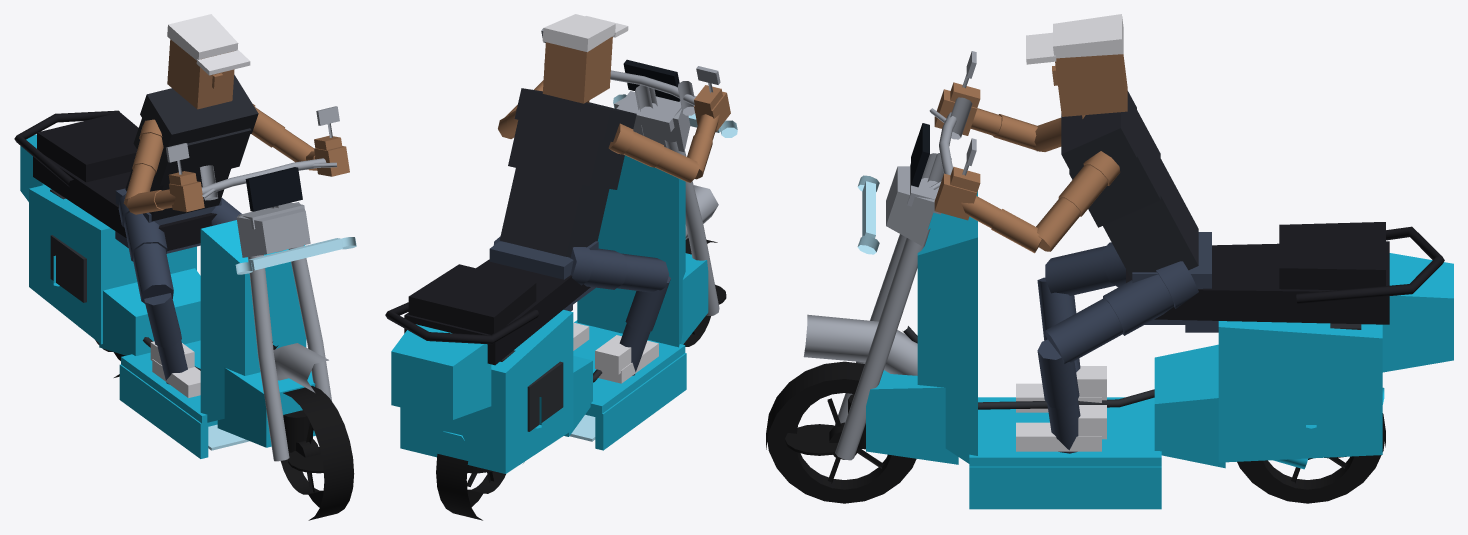
Rendered from keso.glb.
3 renders of one model, left to right at view 1: azimuth 30°, elevation 25°; view 2: azimuth 150°, elevation 25°; view 3: azimuth 270°, elevation 25°, orthographic. The views are drawn at different scales.
Parts seen in each view (by area): view 1: Body, Fork, Saddle, Torso, Spin, Leg_R, Hat, Head, Leg_R_Lower, GaugePanel, BatteryBox, Arm_R (+10 smaller); view 2: Body, Torso, Saddle, Fork, Head, Leg_R, Spin (×2), Arm_R, Pelvis, Hat, Leg_R_Lower, BatteryBox (+6 smaller); view 3: Body, Saddle, Fork, Spin (×2), Torso, Leg_L, Head, Hat, Arm_L, Leg_R, Leg_L_Lower, Shoe_L (+10 smaller).
Part boxes in pixels (<box>): Body: <box>20,134,315,458</box>; Fork: <box>200,158,336,461</box>; Saddle: <box>14,110,216,251</box>; Torso: <box>125,74,258,221</box>; Spin: <box>280,386,354,520</box>; Leg_R: <box>118,194,173,303</box>; Hat: <box>167,14,250,75</box>; Head: <box>167,39,234,109</box>; Leg_R_Lower: <box>144,293,187,384</box>; GaugePanel: <box>245,167,302,211</box>; BatteryBox: <box>50,189,278,370</box>; Arm_R: <box>123,119,163,207</box>; Body: <box>391,155,708,473</box>; Torso: <box>499,88,636,257</box>; Saddle: <box>385,259,590,365</box>; Fork: <box>610,70,719,315</box>; Head: <box>542,37,612,103</box>; Leg_R: <box>569,247,669,292</box>; Spin (×2): <box>436,238,726,520</box>; Arm_R: <box>608,123,699,182</box>; Pelvis: <box>489,241,598,311</box>; Hat: <box>542,14,628,52</box>; Leg_R_Lower: <box>619,276,670,375</box>; BatteryBox: <box>500,350,602,431</box>; Body: <box>866,191,1453,509</box>; Saddle: <box>1126,222,1444,324</box>; Fork: <box>803,97,972,460</box>; Spin (×2): <box>766,361,1385,503</box>; Torso: <box>1061,91,1198,280</box>; Leg_L: <box>1045,261,1198,363</box>; Head: <box>1052,54,1127,118</box>; Hat: <box>1026,14,1123,64</box>; Arm_L: <box>1036,151,1120,251</box>; Leg_R: <box>1045,242,1125,295</box>; Leg_L_Lower: <box>1037,339,1080,453</box>; Shoe_L: <box>1016,405,1106,451</box>.
Size of the model in its own units: 0.7537 by 1.5 by 1.93.
